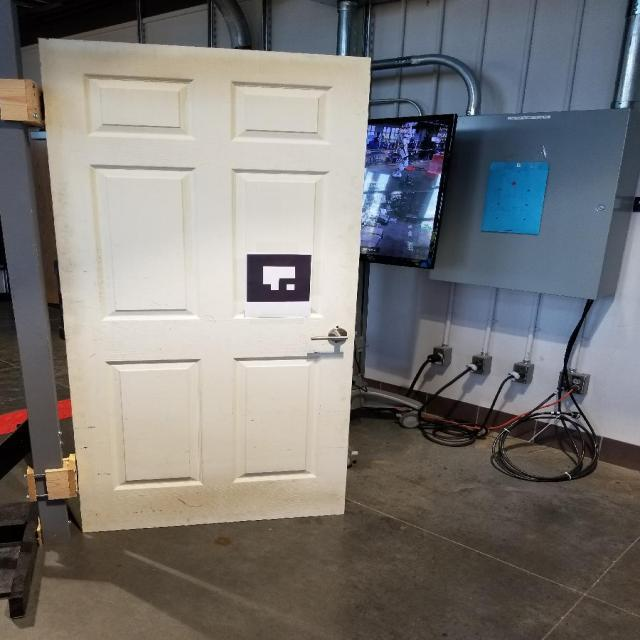door: (35, 34, 378, 540), (310, 328, 350, 349)
